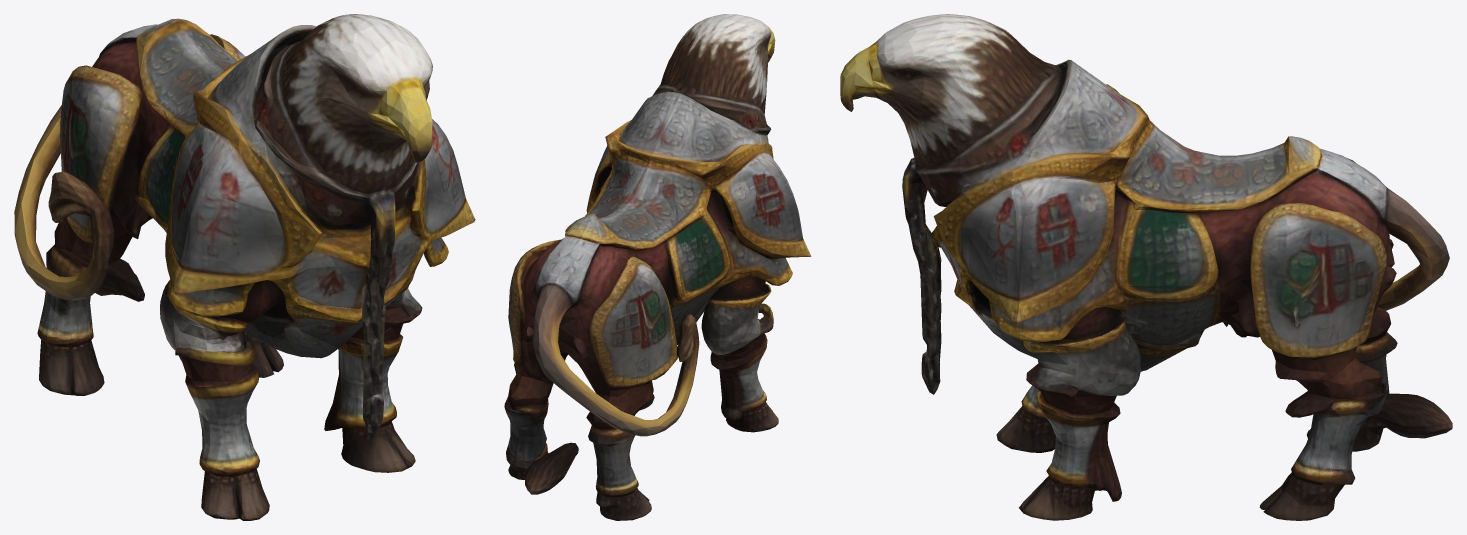
File: vaulthorn.glb
3 views of the same model, side by side, from view 1: azimuth 30°, elevation 25°; view 2: azimuth 150°, elevation 25°; view 3: azimuth 270°, elevation 25° (orthographic). The views are drawn at different scales.
Parts seen in each view (by area): view 1: world; view 2: world; view 3: world.
Part boxes in pixels (bbox=[...]): world: bbox=[14, 14, 475, 520]; world: bbox=[504, 14, 811, 520]; world: bbox=[840, 14, 1452, 520].
Bounding box in the file's own units: 0.5231 × 0.825 × 0.9999.
Materials: 1 (1 with a texture image).
